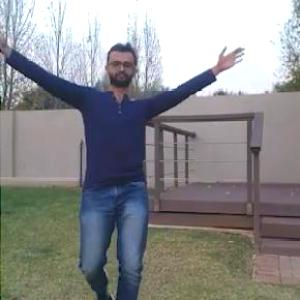takeoff: (3, 27, 299, 299)
